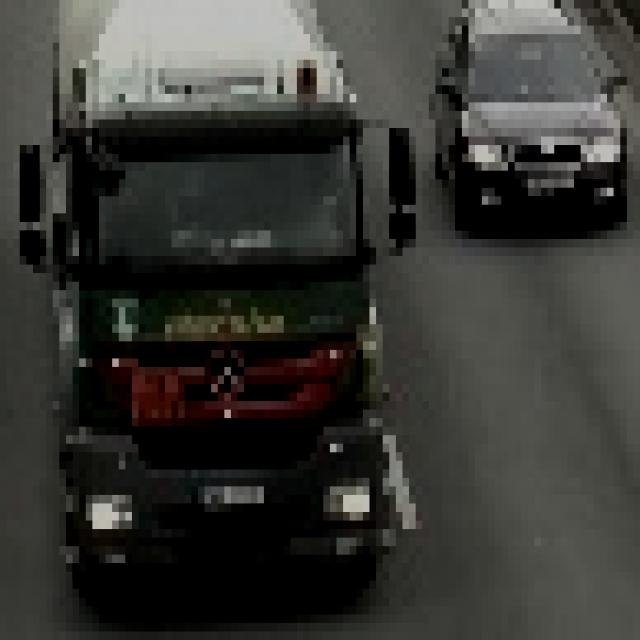truck: (20, 0, 422, 589)
